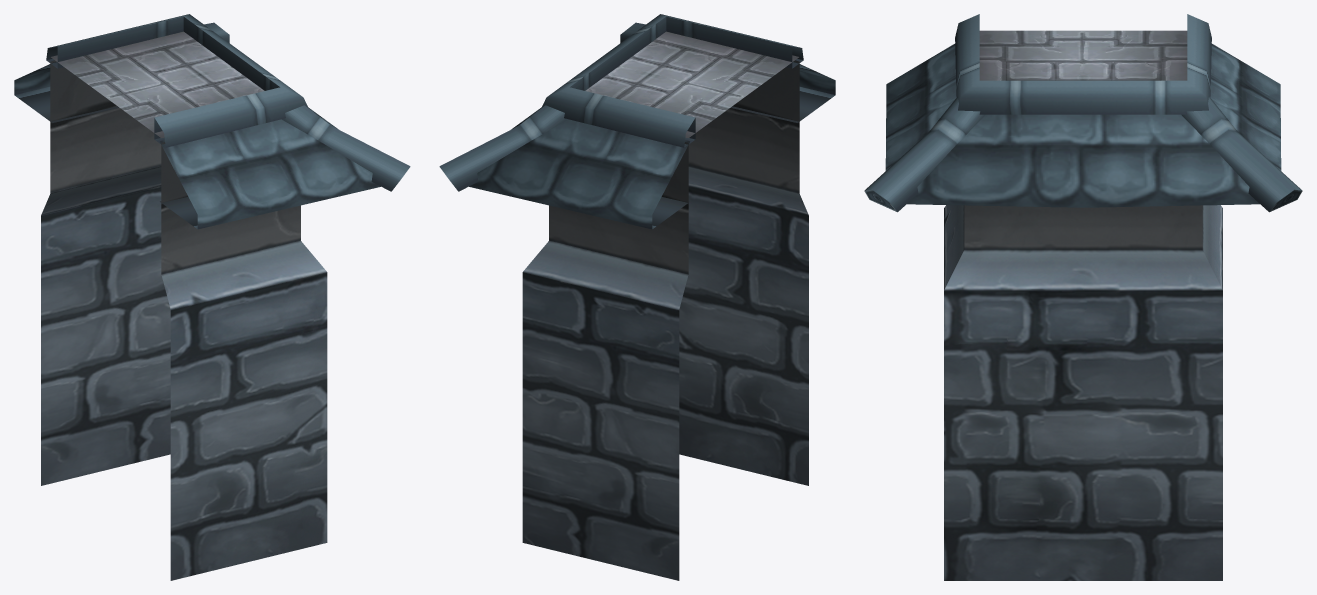
File: castle_wall_side.fbx
3 views of the same model, side by side, from view 1: azimuth 30°, elevation 25°; view 2: azimuth 150°, elevation 25°; view 3: azimuth 270°, elevation 25° (orthographic). The views are drawn at different scales.
Parts seen in each view (by area): view 1: castle_wall_side; view 2: castle_wall_side; view 3: castle_wall_side.
Boxes of the visible parts, left/top/right/bottom form: castle_wall_side: left=14, top=14, right=410, bottom=580; castle_wall_side: left=439, top=14, right=835, bottom=580; castle_wall_side: left=864, top=14, right=1302, bottom=580.
Size of the model in its own units: 2.03 by 4.1 by 3.36.
1 material, 1 textured.
